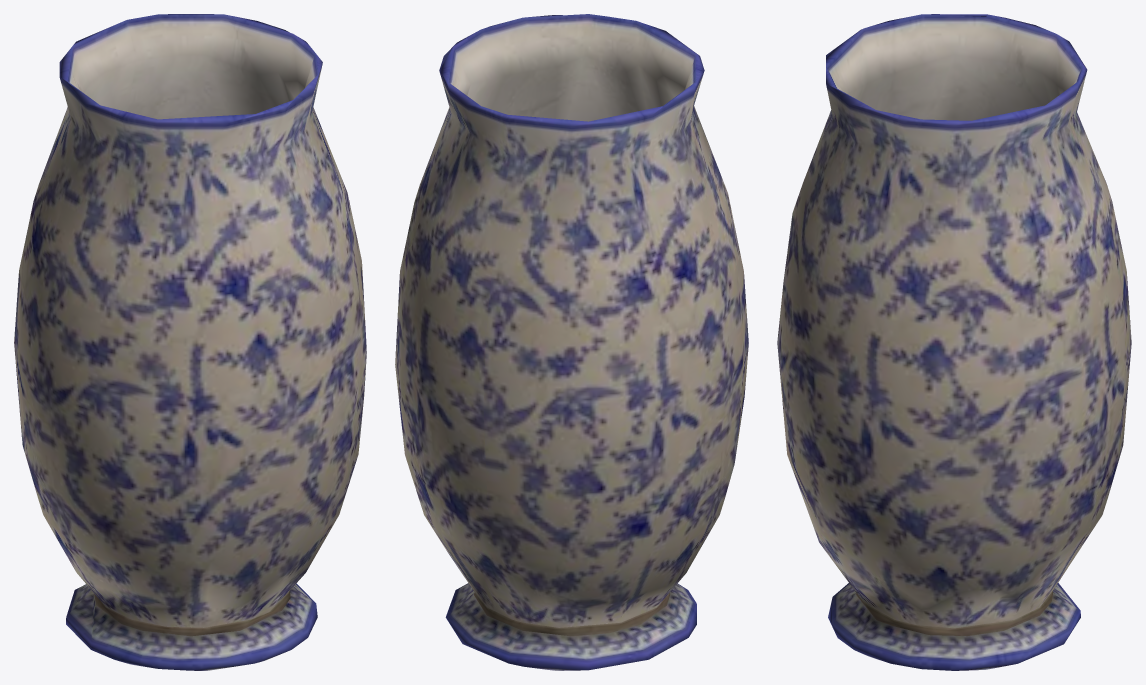
Rendered from faience-vase.glb.
3 views of the same model, side by side, from view 1: azimuth 30°, elevation 25°; view 2: azimuth 150°, elevation 25°; view 3: azimuth 270°, elevation 25° (orthographic).
Parts seen in each view (by area): view 1: antique_ceramic_vase_01; view 2: antique_ceramic_vase_01; view 3: antique_ceramic_vase_01.
Boxes of the visible parts, x1=… form: antique_ceramic_vase_01: x1=14, y1=14, x2=366, y2=670; antique_ceramic_vase_01: x1=395, y1=14, x2=748, y2=670; antique_ceramic_vase_01: x1=777, y1=14, x2=1131, y2=670.
Bounding box in the file's own units: 0.2534 × 0.4396 × 0.255.
Materials: 1 (1 with a texture image).
